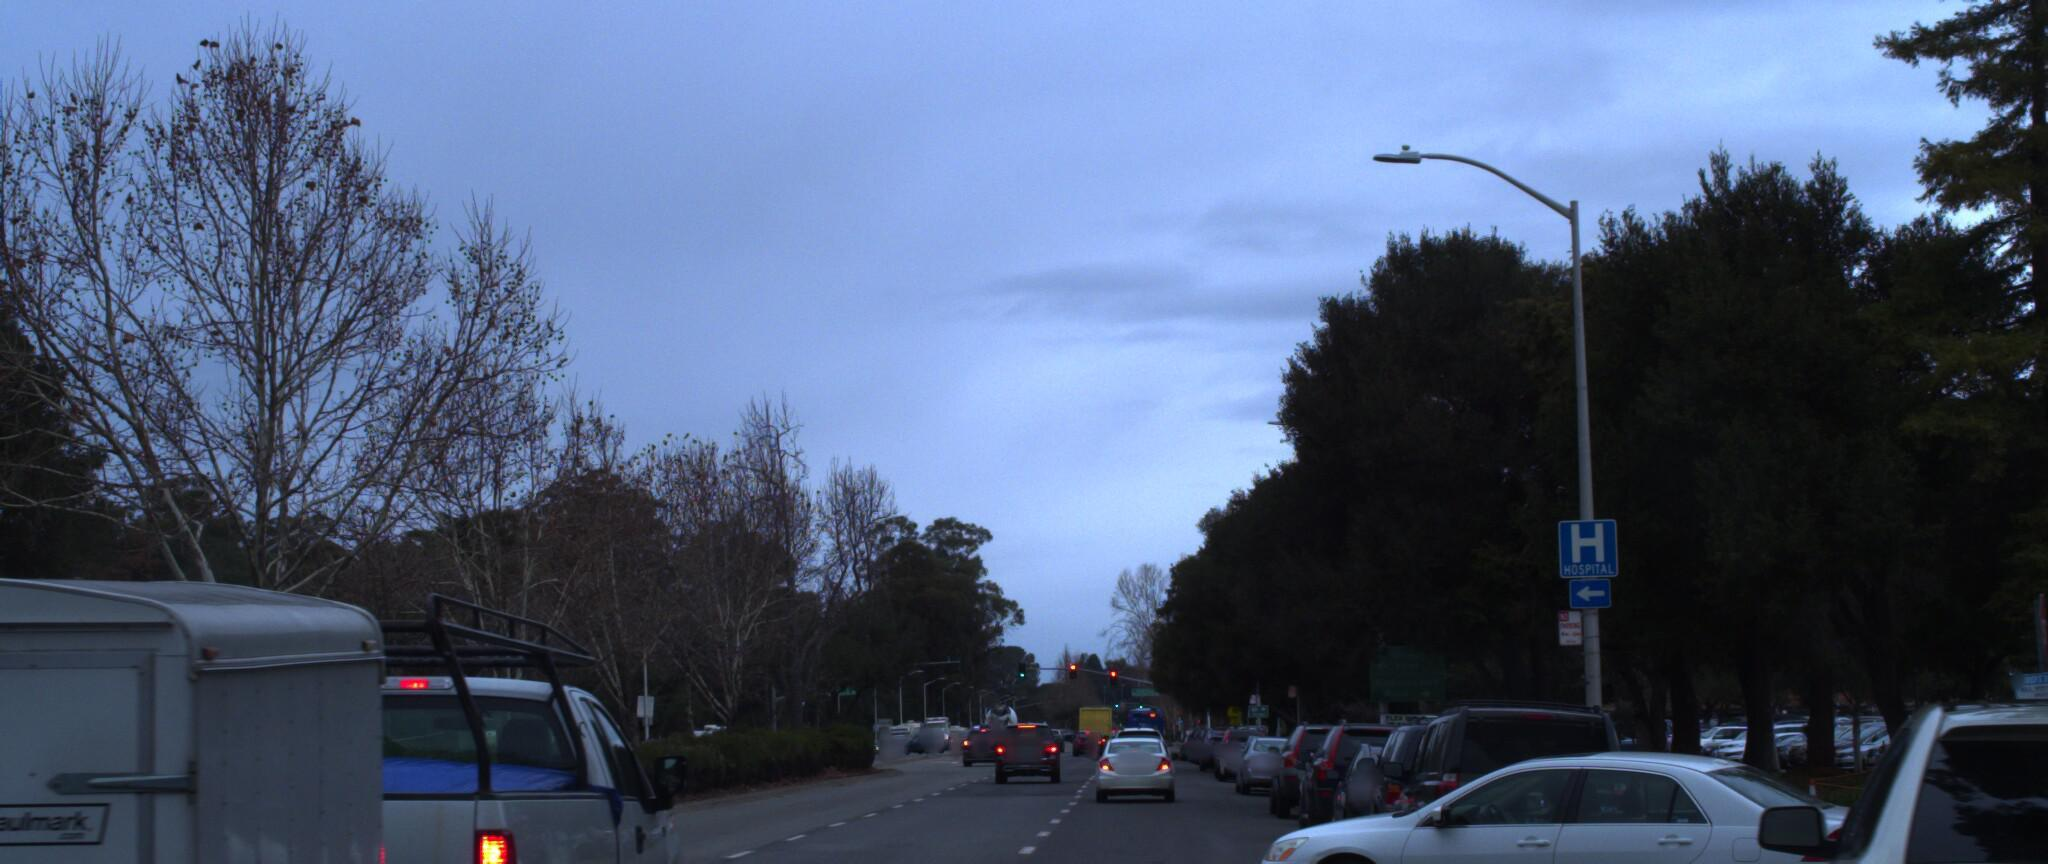car: (0, 516, 737, 864), (1202, 711, 1891, 864), (1752, 656, 2048, 864), (1364, 675, 1646, 864), (1335, 696, 1541, 864), (1285, 700, 1435, 843), (1311, 722, 1473, 855), (1251, 700, 1371, 810), (1093, 719, 1179, 792)
